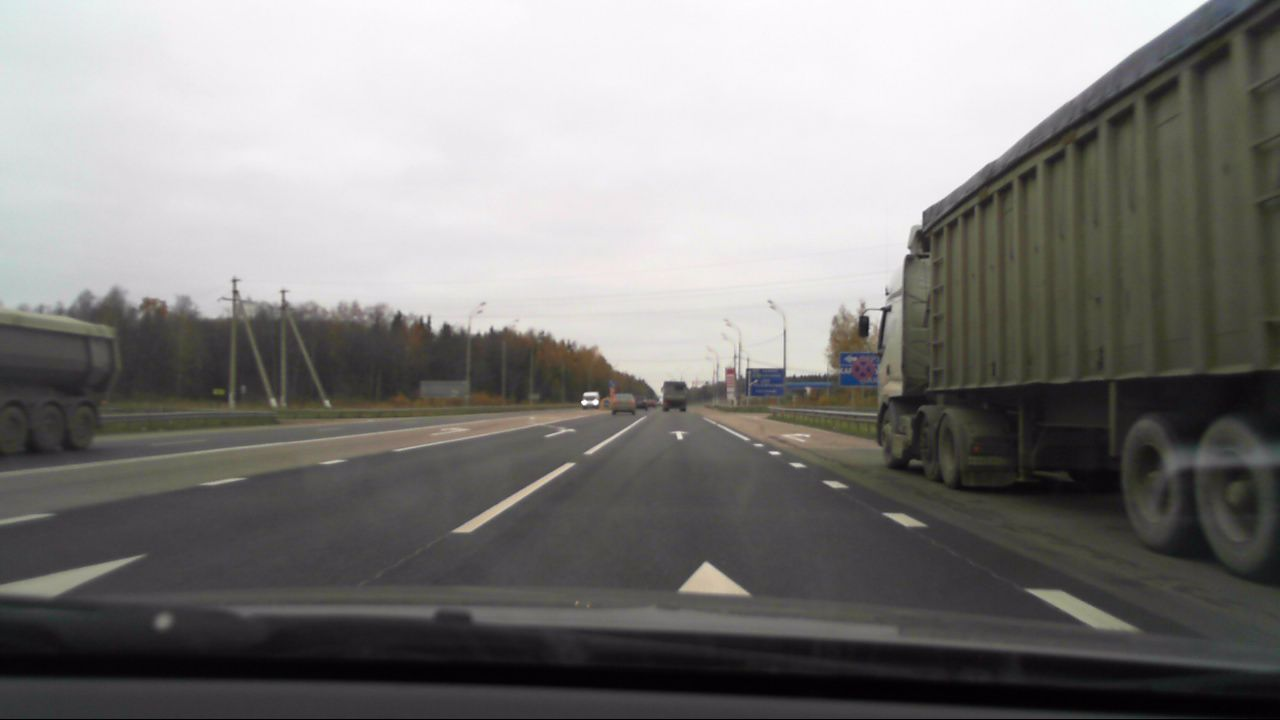No Parking: (850, 354, 873, 380)
